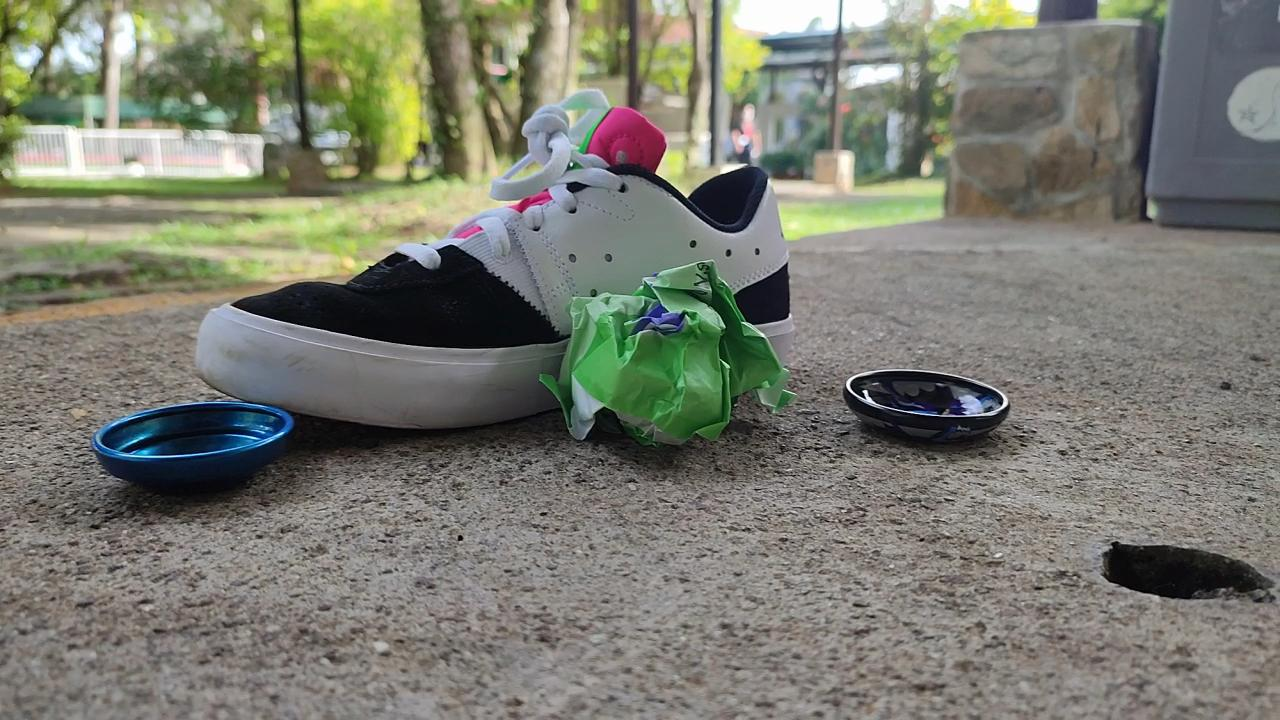Paper: (539, 251, 804, 456)
